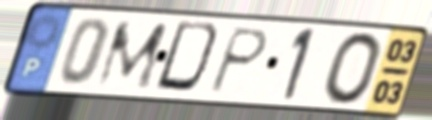0: (57, 15, 112, 89)
1: (280, 25, 320, 105)
D: (151, 18, 226, 98)
M: (92, 20, 173, 91)
O: (320, 29, 386, 107)
P: (204, 25, 272, 97)
